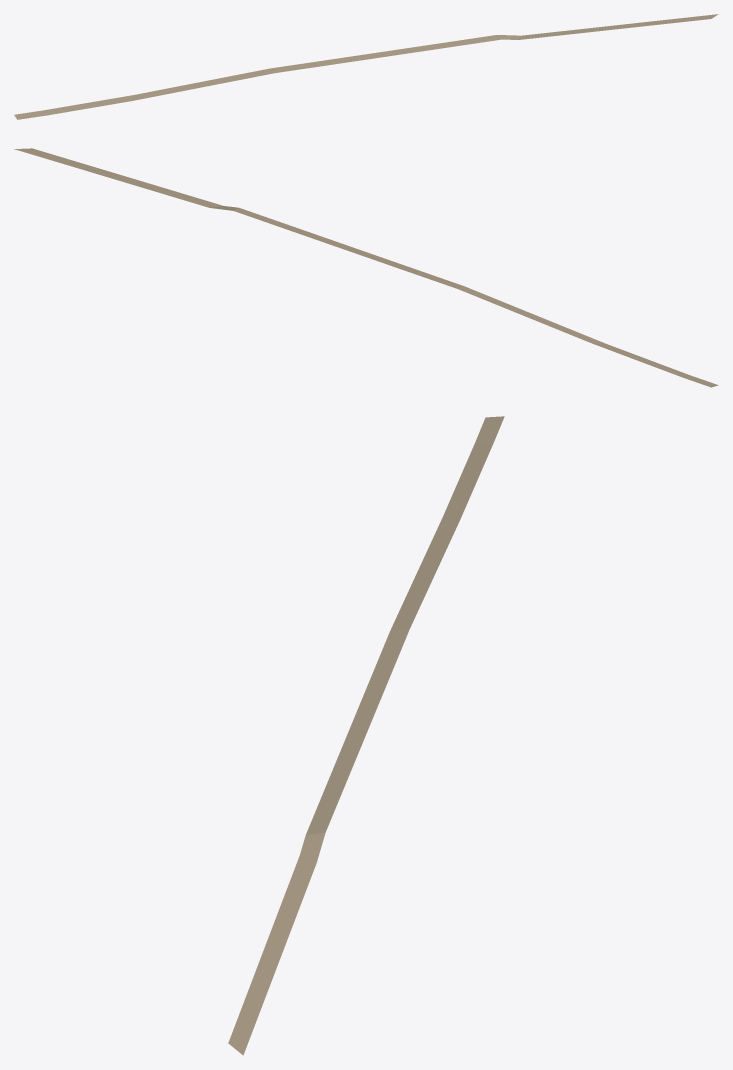
Rendered from farm_-14_-9_track.glb.
3 views of the same model, one above another, from view 1: azimuth 30°, elevation 25°; view 2: azimuth 150°, elevation 25°; view 3: azimuth 270°, elevation 25° (orthographic). The views are drawn at different scales.
Visible parts, largest first — view 1: geometry_0; view 2: geometry_0; view 3: geometry_0.
Part boxes in pixels (box(x1,y1,x2,y2)): geometry_0: box(14, 14, 718, 119); geometry_0: box(14, 148, 718, 387); geometry_0: box(228, 416, 504, 1055).
Size of the model in its own units: 249 by 5.38 by 46.45.
